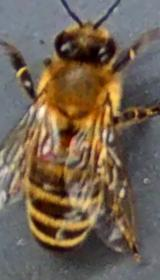varroa_mite: (25, 131, 61, 161)
